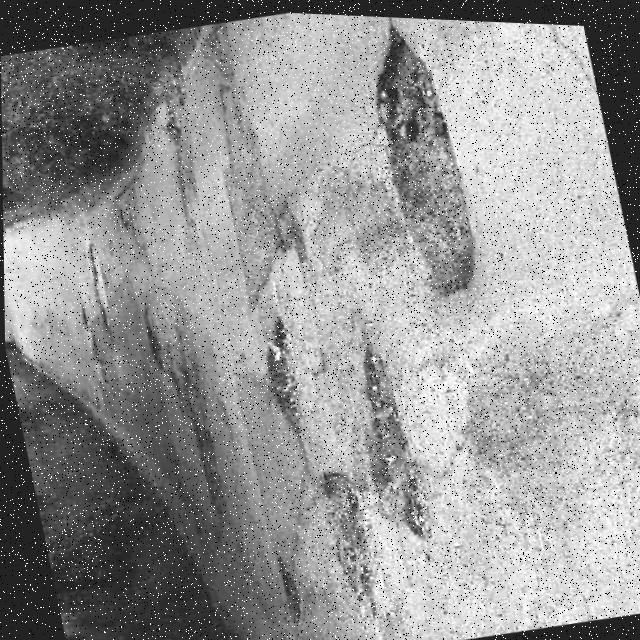pothole: (356, 13, 486, 301), (341, 338, 435, 548), (309, 464, 382, 600), (248, 313, 311, 441), (175, 391, 238, 516), (130, 294, 176, 369), (268, 550, 304, 624)
